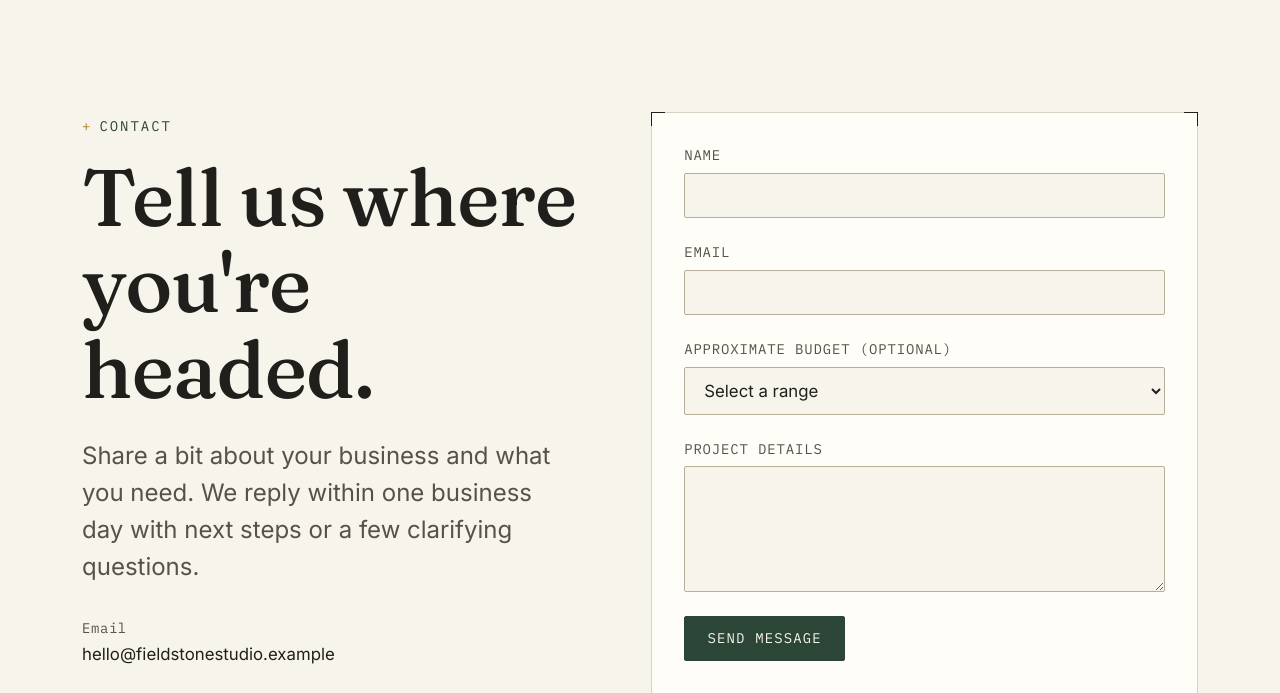
Test: Contact form › flags an invalid email format
This screenshot has width=1280, height=693.
Step 1. Type "not-an-email" into the field labelled "Email" → {"x": 925, "y": 293}, box [684, 270, 1165, 315]
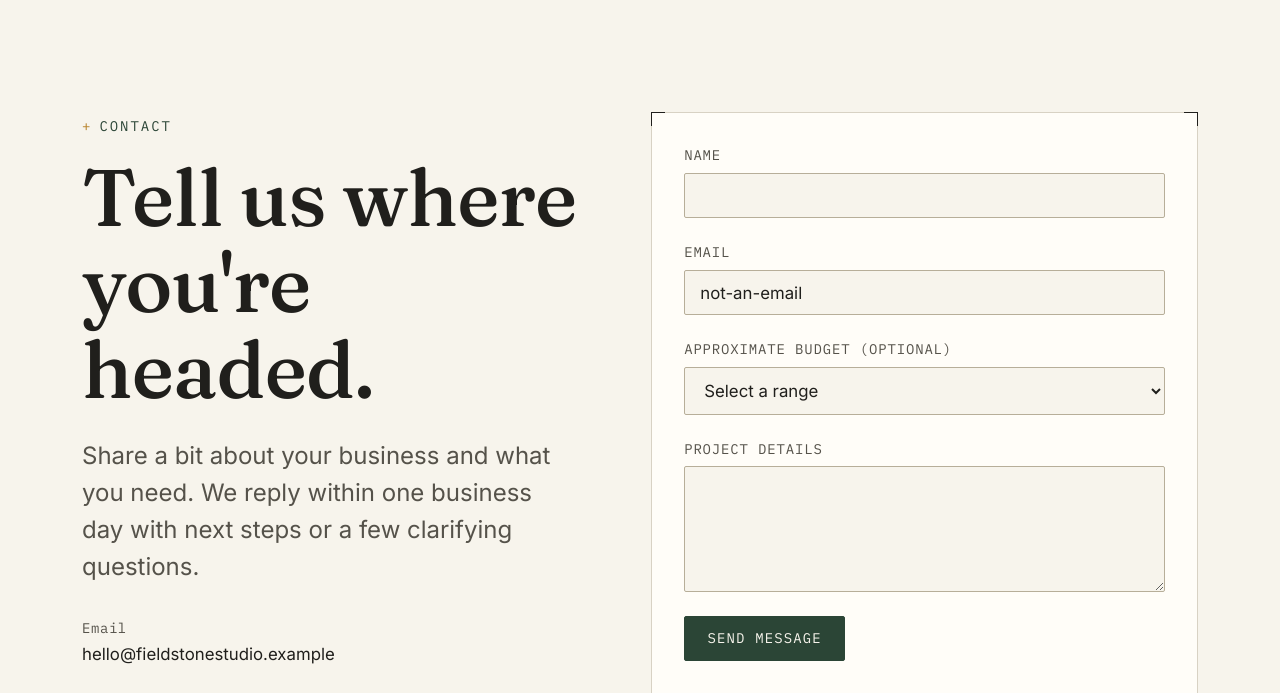
Step 2. Click the button "Send message" → {"x": 765, "y": 638}, box [684, 616, 845, 661]
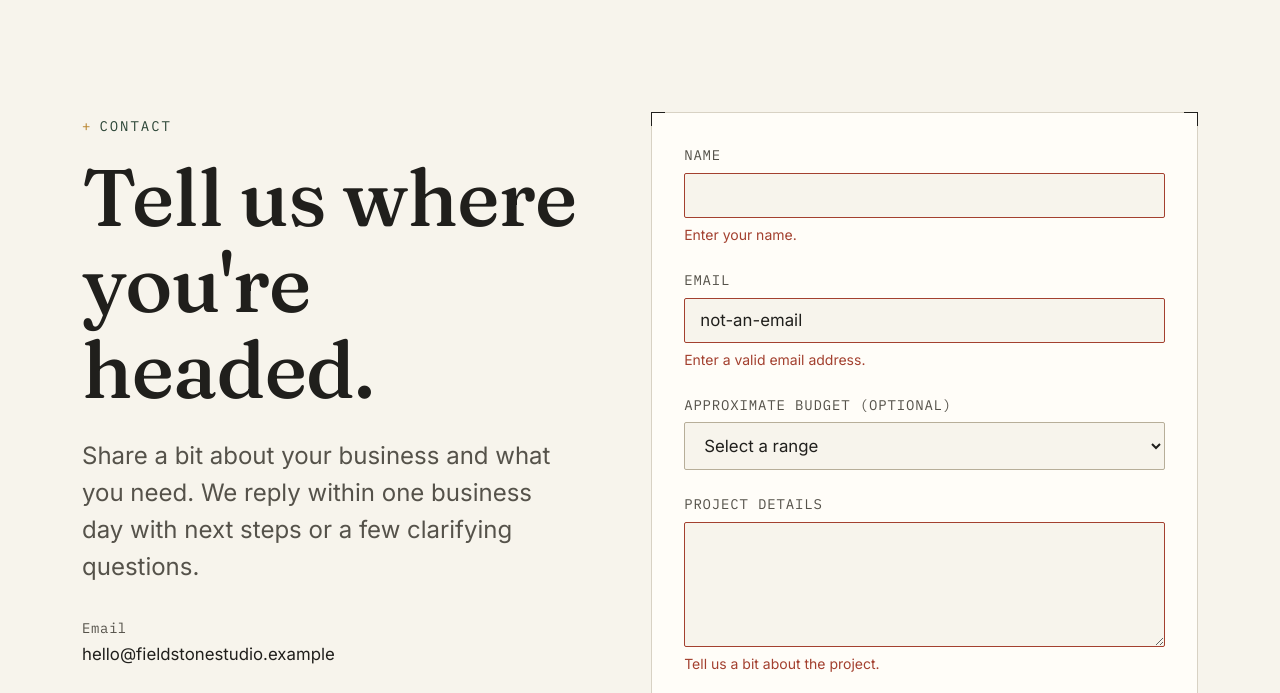
expect the text "Enter a valid email address." is shown: met, box [684, 351, 865, 368]
